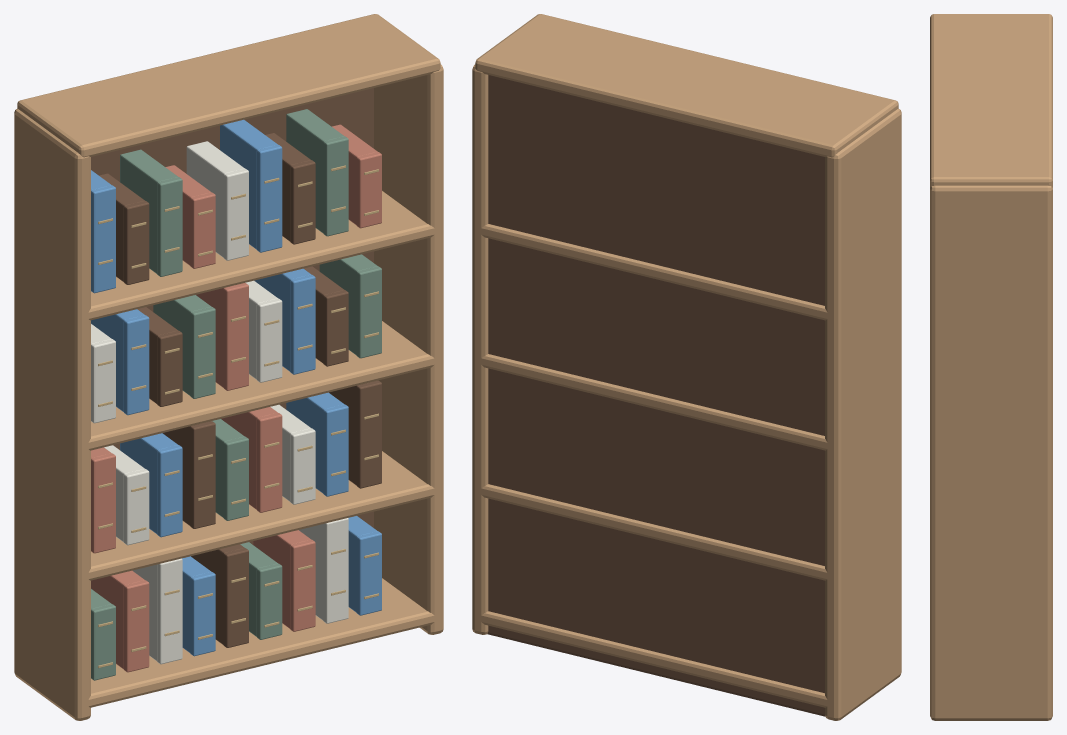
File: bookshelf.glb
The picture shows the model from 3 angles, left to right: view 1: azimuth 30°, elevation 25°; view 2: azimuth 150°, elevation 25°; view 3: azimuth 270°, elevation 25°; orthographic projection. The views are drawn at different scales.
Visible parts, largest first — view 1: bookshelf Warm ash wood, bookshelf Cold tap, bookshelf Walnut accents, bookshelf Sage upholstery, bookshelf Book coral, bookshelf Warm porcelain, bookshelf Brushed brass; view 2: bookshelf Walnut accents, bookshelf Warm ash wood; view 3: bookshelf Warm ash wood.
Part boxes in pixels (x1,y1,x2,y2): bookshelf Warm ash wood: [14, 14, 443, 720]; bookshelf Cold tap: [91, 119, 381, 656]; bookshelf Walnut accents: [91, 88, 381, 647]; bookshelf Sage upholstery: [91, 109, 381, 680]; bookshelf Book coral: [91, 124, 381, 672]; bookshelf Warm porcelain: [91, 141, 348, 664]; bookshelf Brushed brass: [98, 165, 378, 668]; bookshelf Walnut accents: [487, 75, 825, 716]; bookshelf Warm ash wood: [472, 14, 901, 720]; bookshelf Warm ash wood: [930, 14, 1052, 720].
Size of the model in its own units: 1.28 by 1.9 by 0.39.
